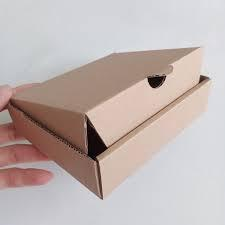box: (7, 45, 212, 200)
